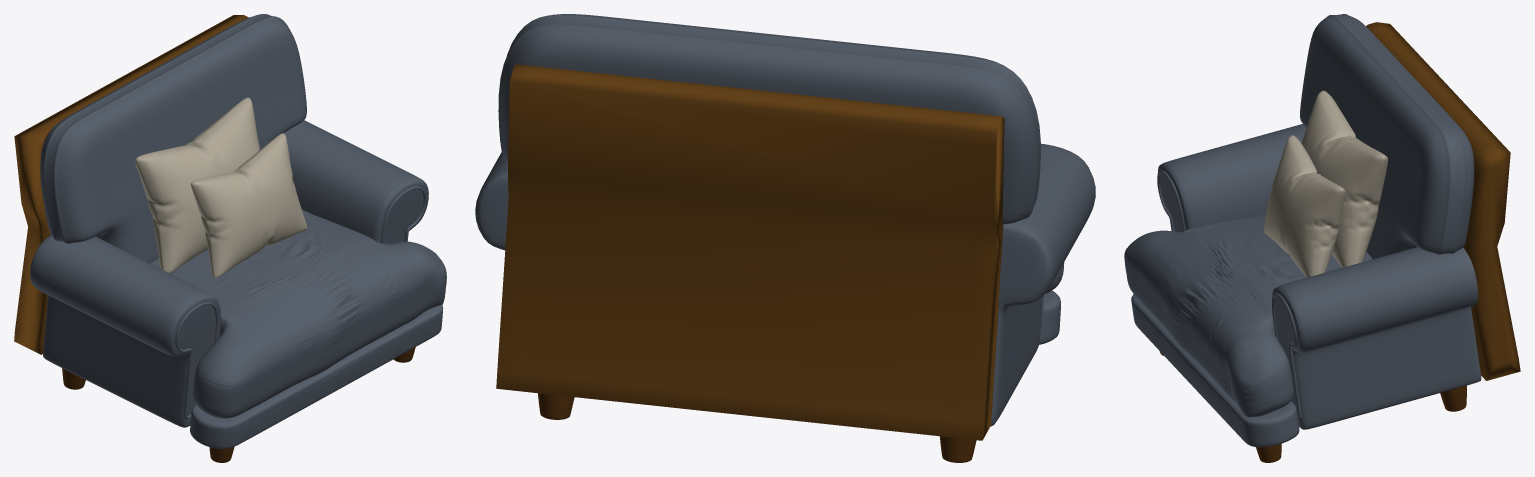
The model's file is sofa.glb.
3 renders of one model, left to right at view 1: azimuth 30°, elevation 25°; view 2: azimuth 150°, elevation 25°; view 3: azimuth 270°, elevation 25°, orthographic. The views are drawn at different scales.
Parts seen in each view (by area): view 1: Cube.118, Plane.040, Cube.120, Cylinder.069; view 2: Cube.120, Cube.118, Cylinder.069; view 3: Cube.118, Plane.040, Cube.120, Cylinder.069.
Part boxes in pixels (<box>): Cube.118: <box>30,14,446,448</box>; Plane.040: <box>135,97,307,277</box>; Cube.120: <box>14,15,248,354</box>; Cylinder.069: <box>62,347,415,462</box>; Cube.120: <box>496,64,1004,440</box>; Cube.118: <box>475,14,1095,426</box>; Cylinder.069: <box>538,393,976,462</box>; Cube.118: <box>1124,14,1481,447</box>; Plane.040: <box>1263,90,1387,277</box>; Cube.120: <box>1366,22,1520,380</box>; Cylinder.069: <box>1160,352,1466,462</box>.
Size of the model in its own units: 6.57 by 4.97 by 5.71.
